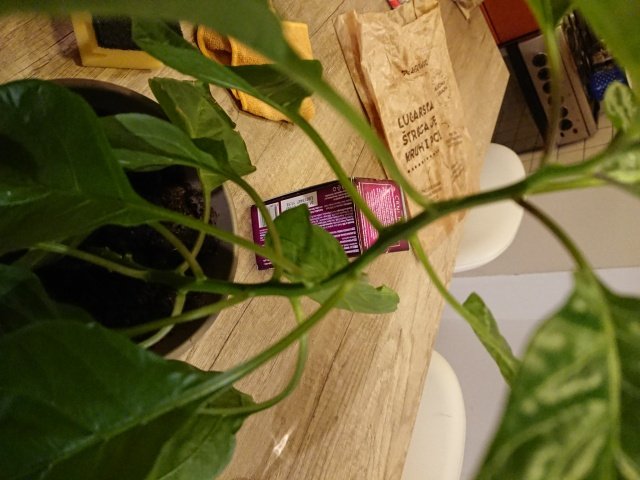Franck Black Currant Tea 60g: (248, 174, 412, 273)
